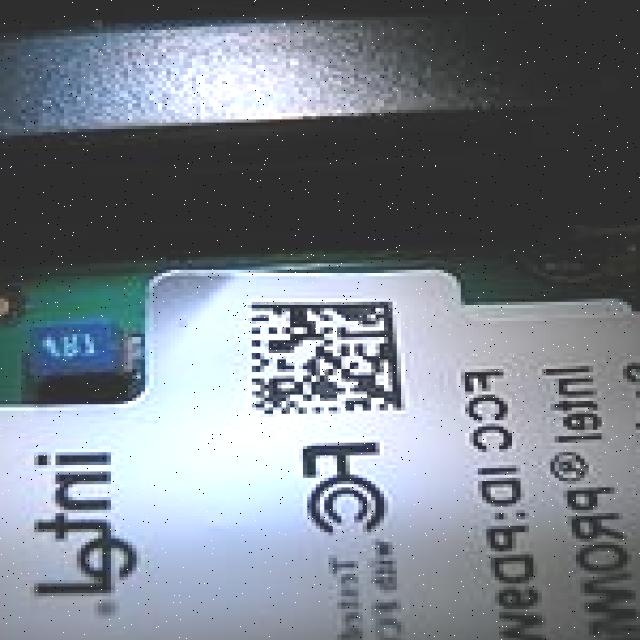datamatrix: (239, 294, 414, 416)
